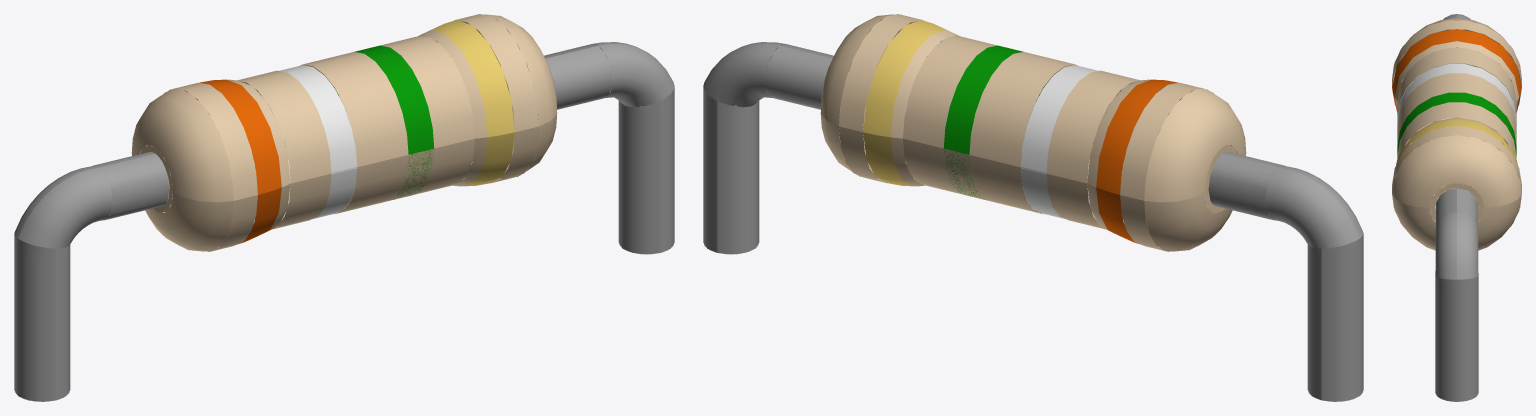
File: 橙白綠R5.fbx
The picture shows the model from 3 angles, left to right: view 1: azimuth 30°, elevation 25°; view 2: azimuth 150°, elevation 25°; view 3: azimuth 270°, elevation 25°; orthographic projection. The views are drawn at different scales.
Parts seen in each view (by area): view 1: nurbsToPoly261; view 2: nurbsToPoly261; view 3: nurbsToPoly261.
Part boxes in pixels (left/top/right/bottom): nurbsToPoly261: left=14, top=14, right=674, bottom=401; nurbsToPoly261: left=703, top=14, right=1363, bottom=401; nurbsToPoly261: left=1392, top=14, right=1521, bottom=401.
Size of the model in its own units: 3.19 by 1.21 by 0.7087.
